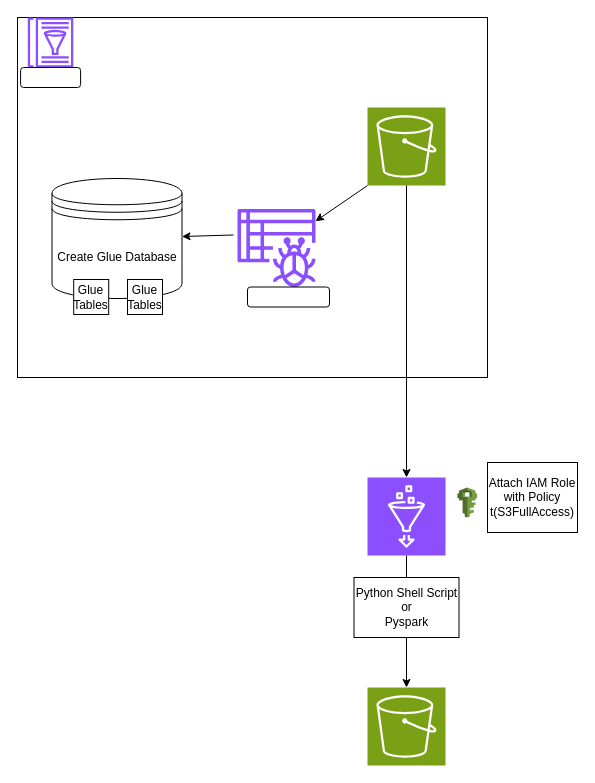
Image size: 595x783. Some labels were removed from this diagram. The shapes that lost their labels are listed below. From the top down, each one's centre as x and y in pixels, then its label:
point 50,77: Glue Catalogue
point 288,296: Glue Crawler
